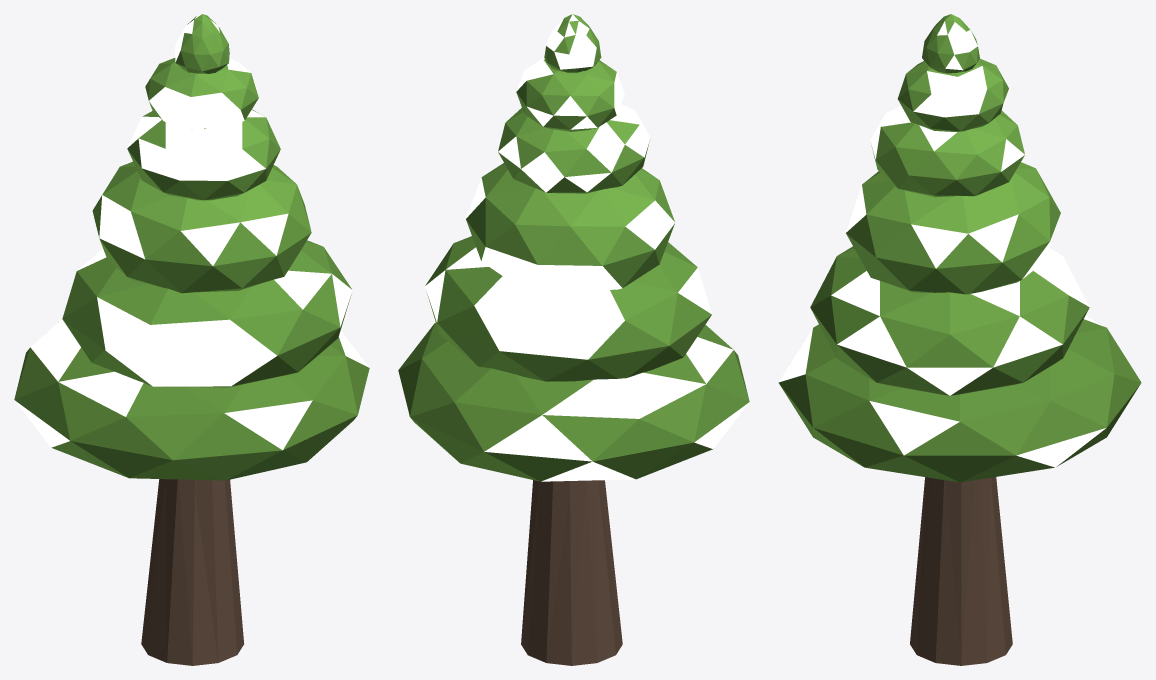
Rendered from tree_christmas_snow_1.glb.
3 renders of one model, left to right at view 1: azimuth 30°, elevation 25°; view 2: azimuth 150°, elevation 25°; view 3: azimuth 270°, elevation 25°, orthographic.
Parts seen in each view (by area): view 1: tree_0036.001; view 2: tree_0036.001; view 3: tree_0036.001.
Part boxes in pixels (<box>): tree_0036.001: <box>14,14,369,665</box>; tree_0036.001: <box>398,14,749,665</box>; tree_0036.001: <box>778,14,1141,665</box>.
Bounding box in the file's own units: 1.89 × 3.81 × 1.99.
